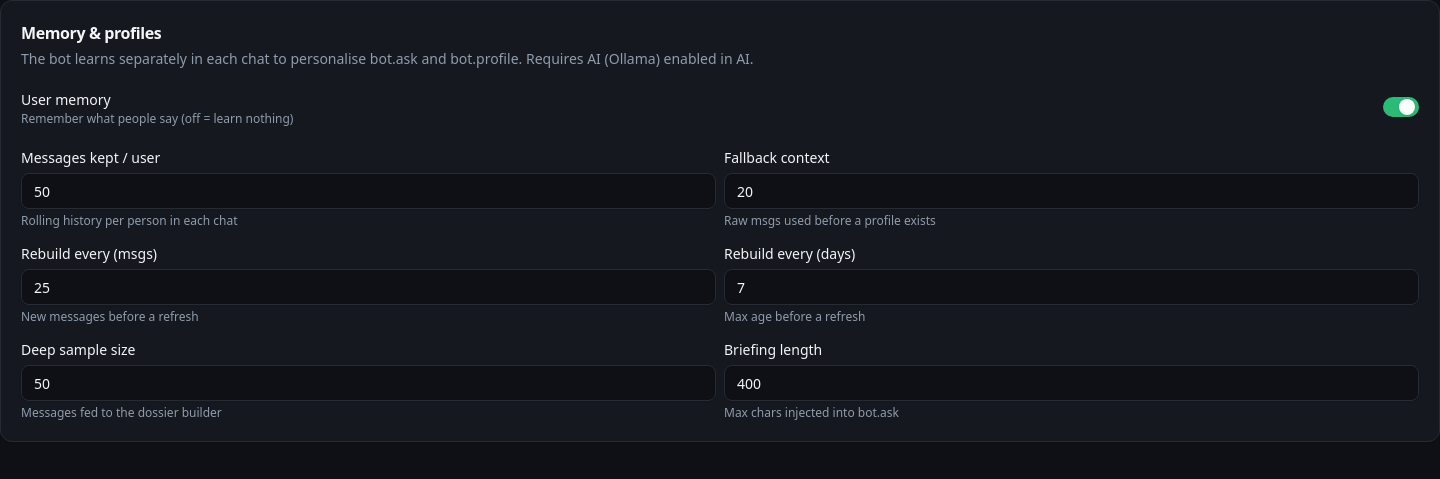
it: service card feedback › uses shared labeled fields and the backend's numeric bounds for memory
Expected: the switch named "User memory" is shown, [1383,97,1419,117]
Replace the text in the number field labelled "Messages kept / user" with "0" at (368, 191), box [21,173,716,209]
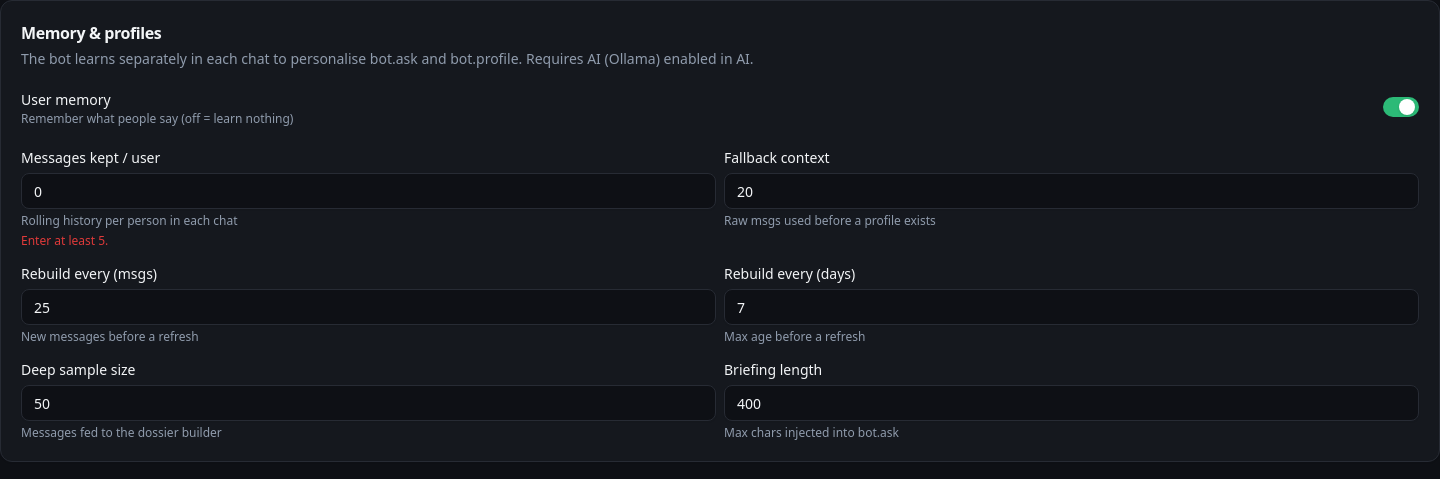
Result: the message reads "Enter at least 5." at [21,232,108,249]
